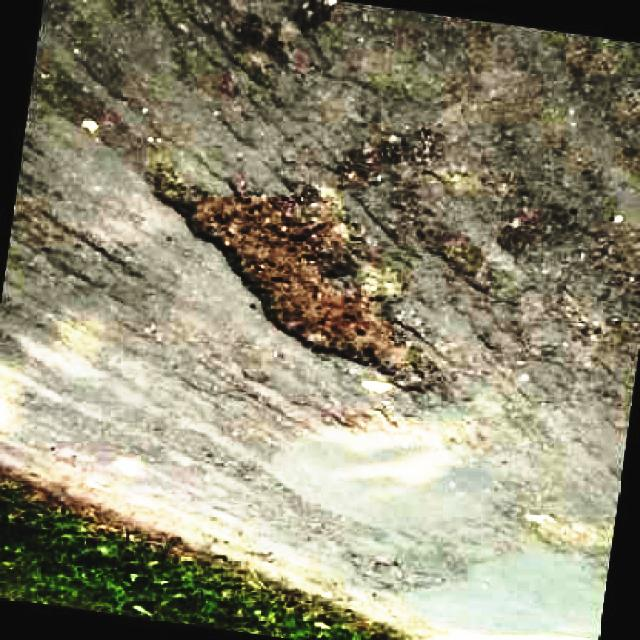pothole: (149, 162, 442, 396), (518, 500, 608, 563)
